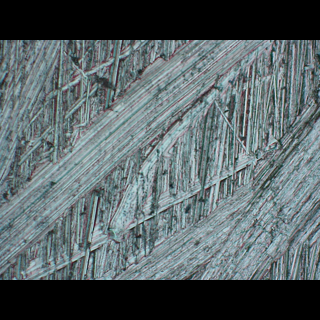d: (0, 39, 317, 278)
